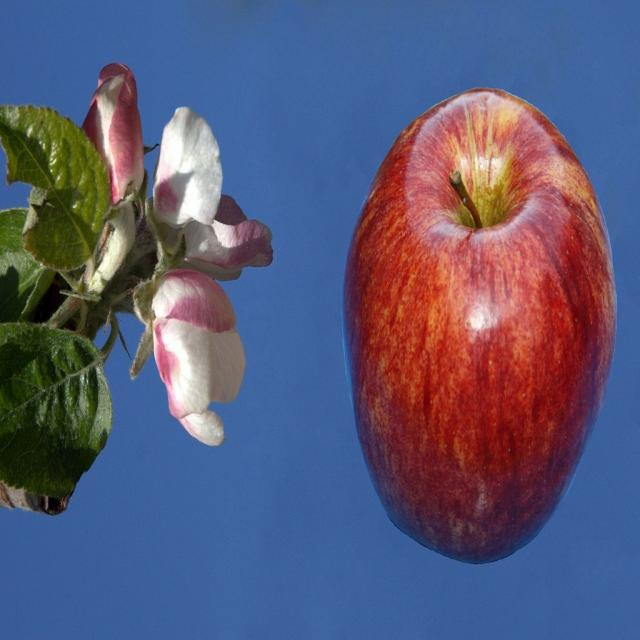Healty Apple: (346, 85, 620, 568)
